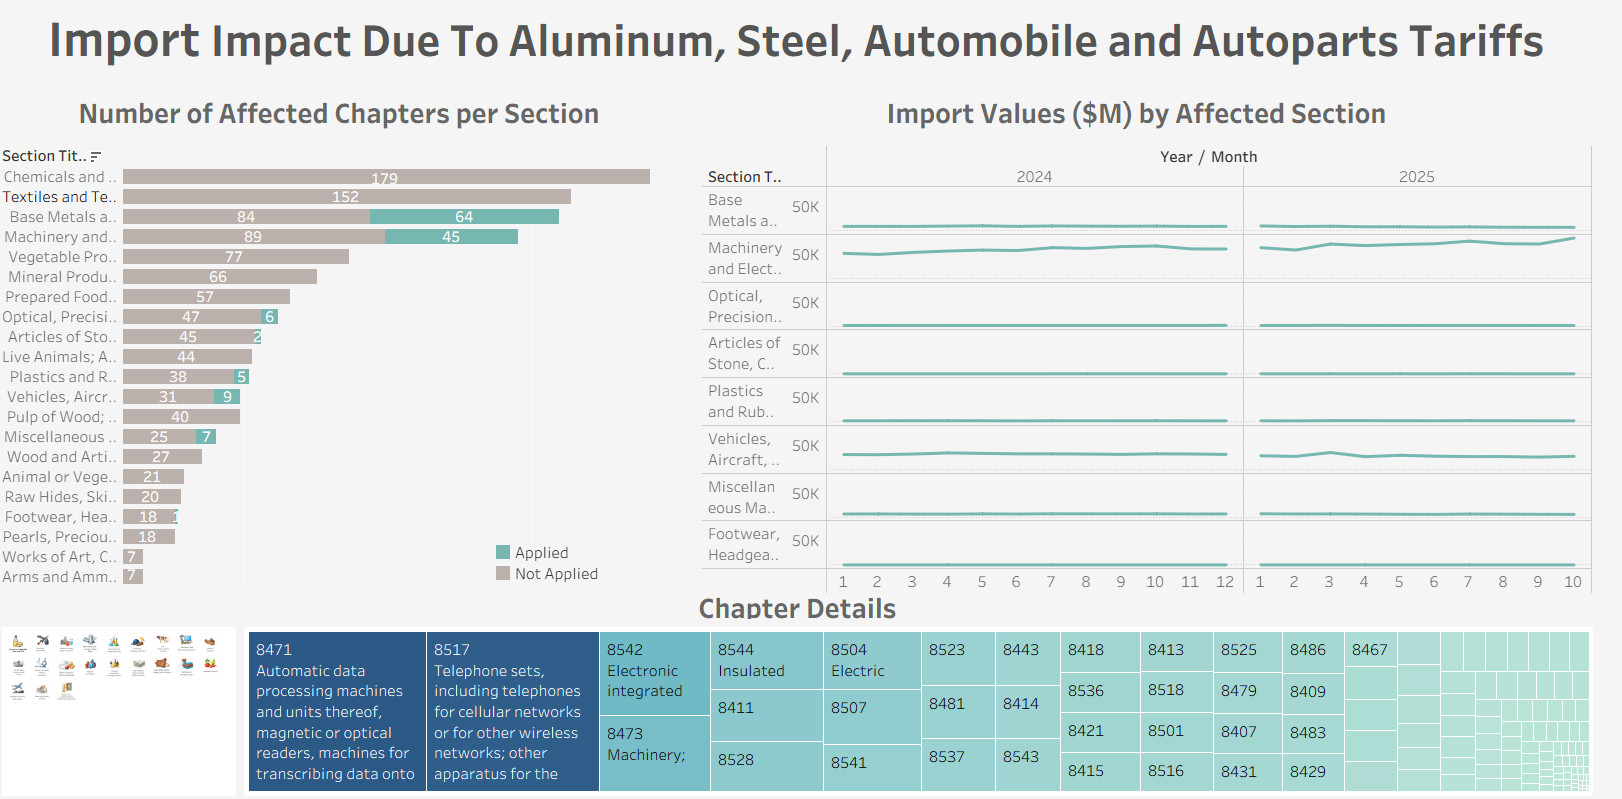

Layout of this report page (visuals, bound fields, positions):
{"tool":"tableau","page":{"name":"Impacts: Products","canvas":[1000,1000],"units":"permille","ordinal":2},"visuals":[{"type":"text","box":[1.6,2.2,996.1,94.2]},{"type":"text","box":[1.6,119,531.2,40]},{"type":"text","box":[532.8,119,465.6,40]},{"type":"worksheet","title":"Imp_Prod: Sections","mark":"Bar","rows":["Section Title"],"cols":["Tariff"],"box":[0.8,181.8,546.9,543.3]},{"type":"worksheet","title":"Imp_Prod: HS","mark":"Line","rows":["Section Title","fobvalue"],"cols":["Year","Month"],"box":[547.7,181.8,451.4,543.3]},{"type":"legend","title":"Imp_Prod: Sections","param":"[federated.0itw6t31pglb0g1c5mcft132owkg].[none:Tariff:nk]","box":[344.5,598.5,201.6,62.8]},{"type":"text","box":[1.6,727.3,997.7,34.6]},{"type":"worksheet","title":"Imp_Prod: Images","mark":"Shape","box":[1.6,761.9,164.1,241.3]},{"type":"worksheet","title":"Over_Prod: Detail1","mark":"Automatic","box":[165.6,761.9,833.6,241.3]}]}

Visuals, with their boxes on the dashboard's canvas, which has no fixed pixel size, in thousandths of its width and height (x1, y1, x2, y2). These are canvas units, not pixel positions in the 1622x799 screenshot, which may show the page scaled, cropped or inside an application window:
text: left=2, top=2, right=998, bottom=96
text: left=2, top=119, right=533, bottom=159
text: left=533, top=119, right=998, bottom=159
"Imp_Prod: Sections" worksheet (Bar marks): left=1, top=182, right=548, bottom=725
"Imp_Prod: HS" worksheet (Line marks): left=548, top=182, right=999, bottom=725
"Imp_Prod: Sections" legend: left=344, top=598, right=546, bottom=661
text: left=2, top=727, right=999, bottom=762
"Imp_Prod: Images" worksheet (Shape marks): left=2, top=762, right=166, bottom=1003
"Over_Prod: Detail1" worksheet: left=166, top=762, right=999, bottom=1003
